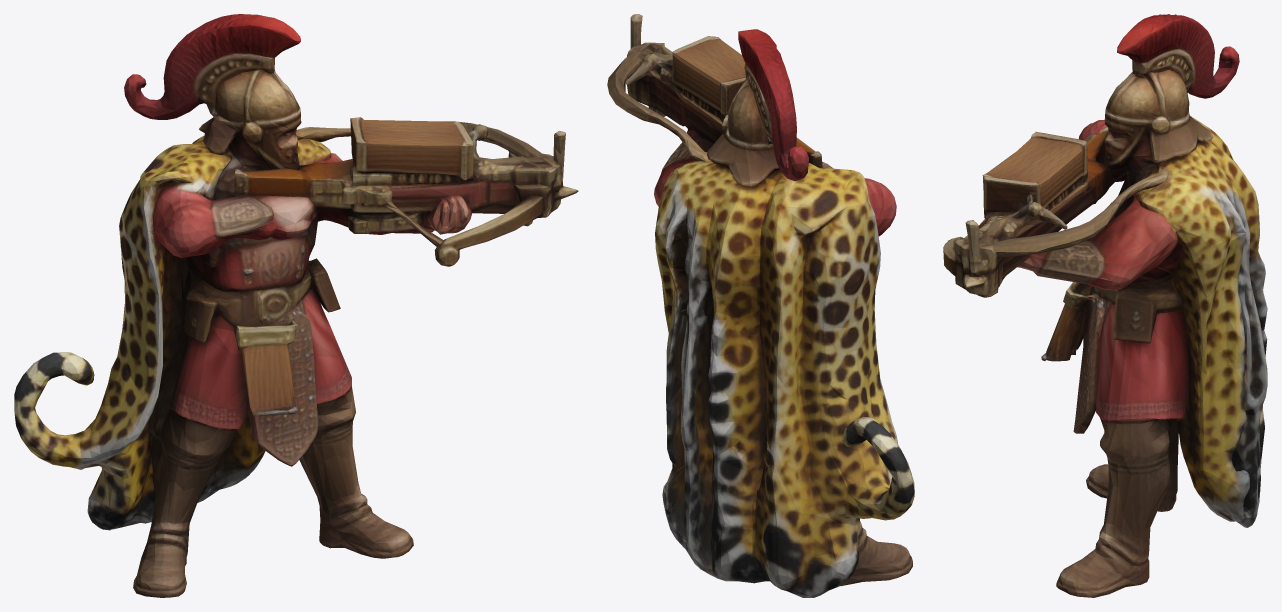
The model's file is repeaterCrossbowman.glb.
3 renders of one model, left to right at view 1: azimuth 30°, elevation 25°; view 2: azimuth 150°, elevation 25°; view 3: azimuth 270°, elevation 25°, orthographic.
Visible parts, largest first — view 1: world; view 2: world; view 3: world.
Part boxes in pixels (<box>): world: <box>14,14,578,597</box>; world: <box>607,14,914,597</box>; world: <box>943,14,1267,597</box>.
Bounding box in the file's own units: 0.8453 × 0.9993 × 0.5643.
Materials: 1 (1 with a texture image).
